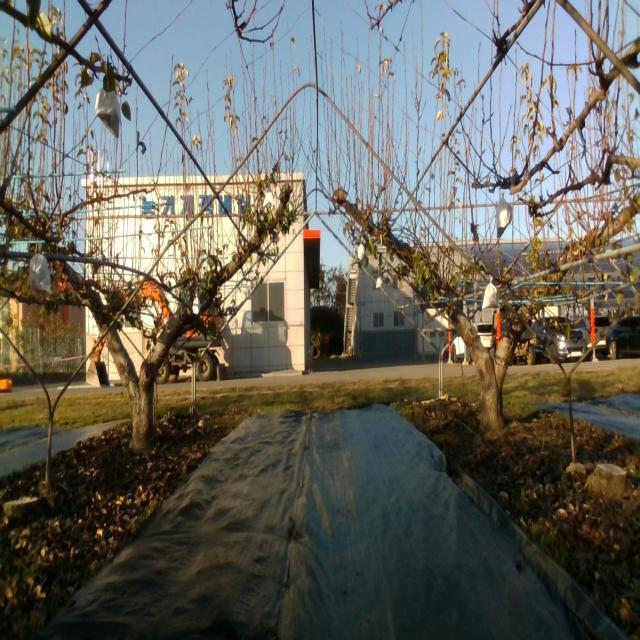pearbags: (92, 81, 122, 135), (28, 240, 52, 293), (496, 194, 512, 240), (482, 275, 498, 310), (262, 186, 274, 207)
